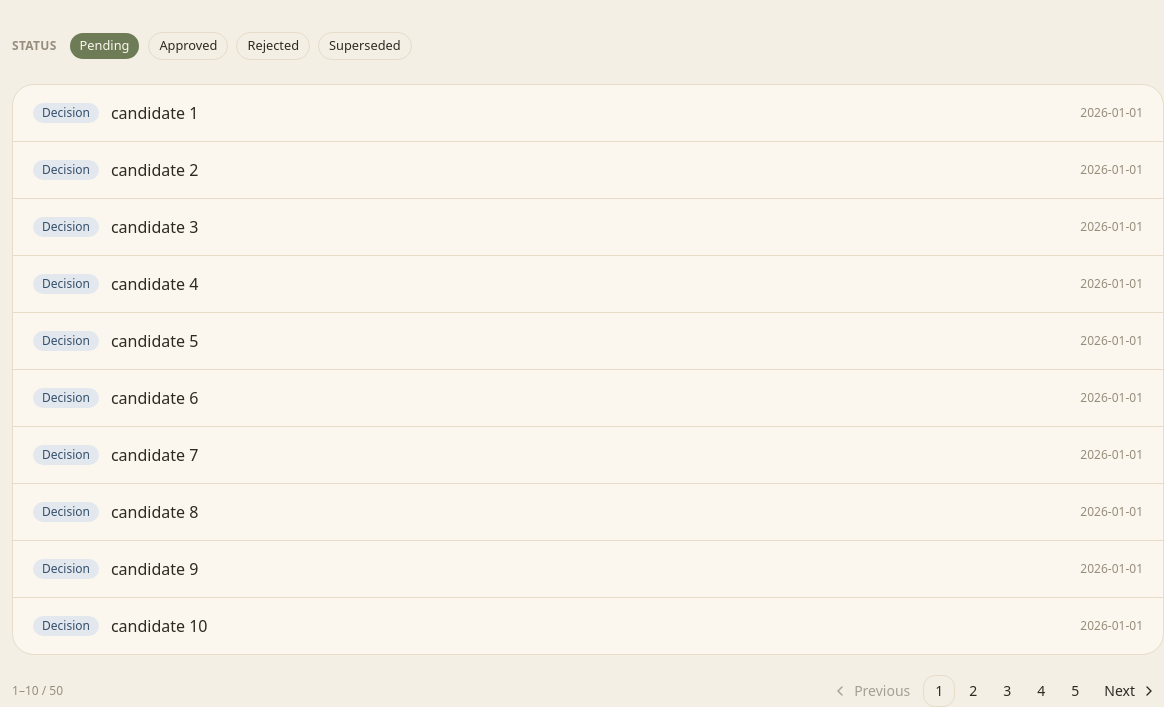
Test: ReviewQueue › pages forward from a numbered button without refetching earlier pages
The width and height of the screenshot is (1164, 707).
(page scrolled)
Expected: the text "candidate 1" is shown, [111, 102, 198, 124]
Click the button "4" at (1041, 690), box [1037, 680, 1045, 700]
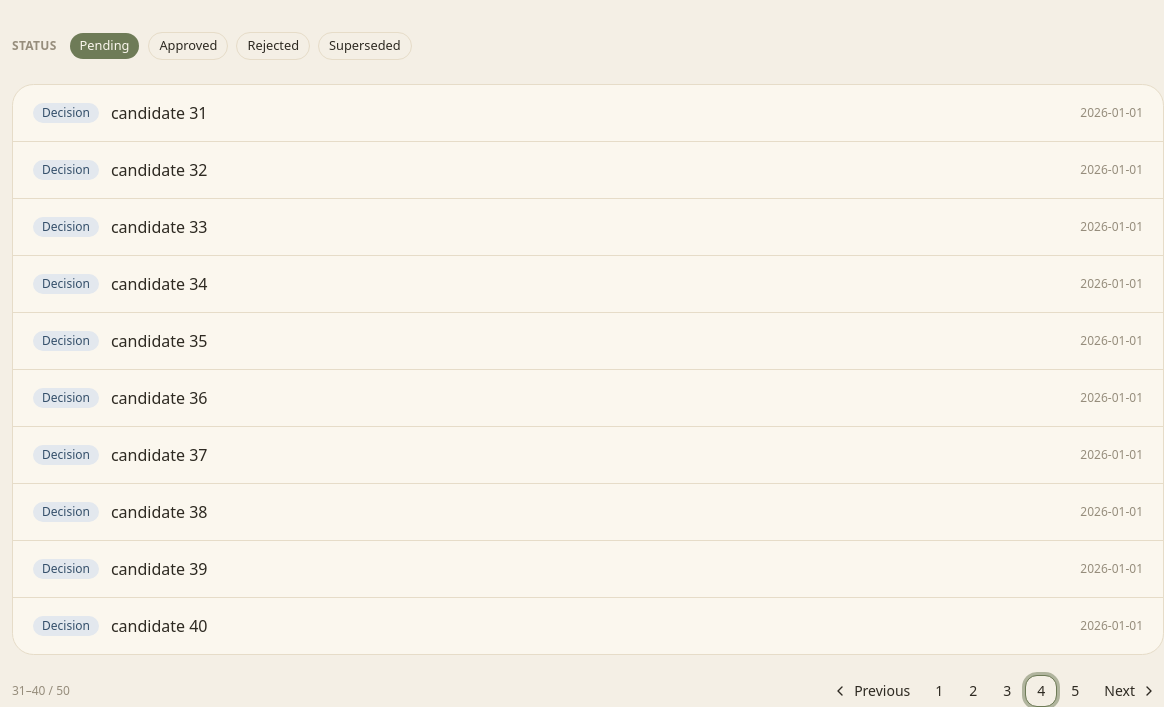
Expected: the text "candidate 31" is shown, [111, 102, 208, 124]
Expected: the link "candidate 1" is gone
